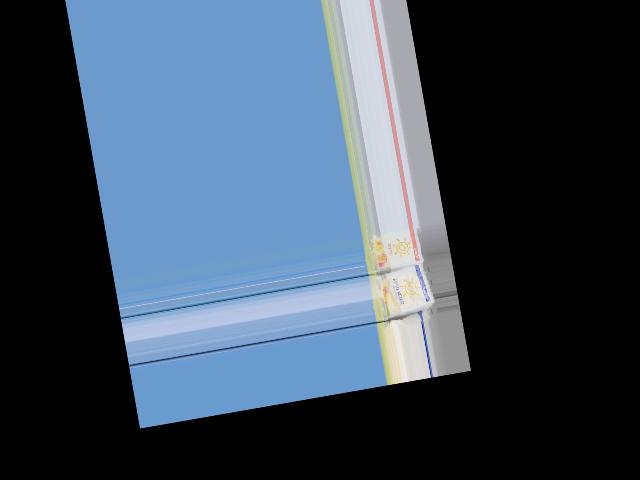cheese: (361, 225, 426, 273)
